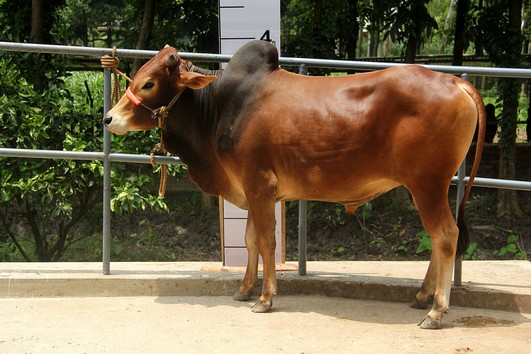cow: (101, 32, 487, 333)
